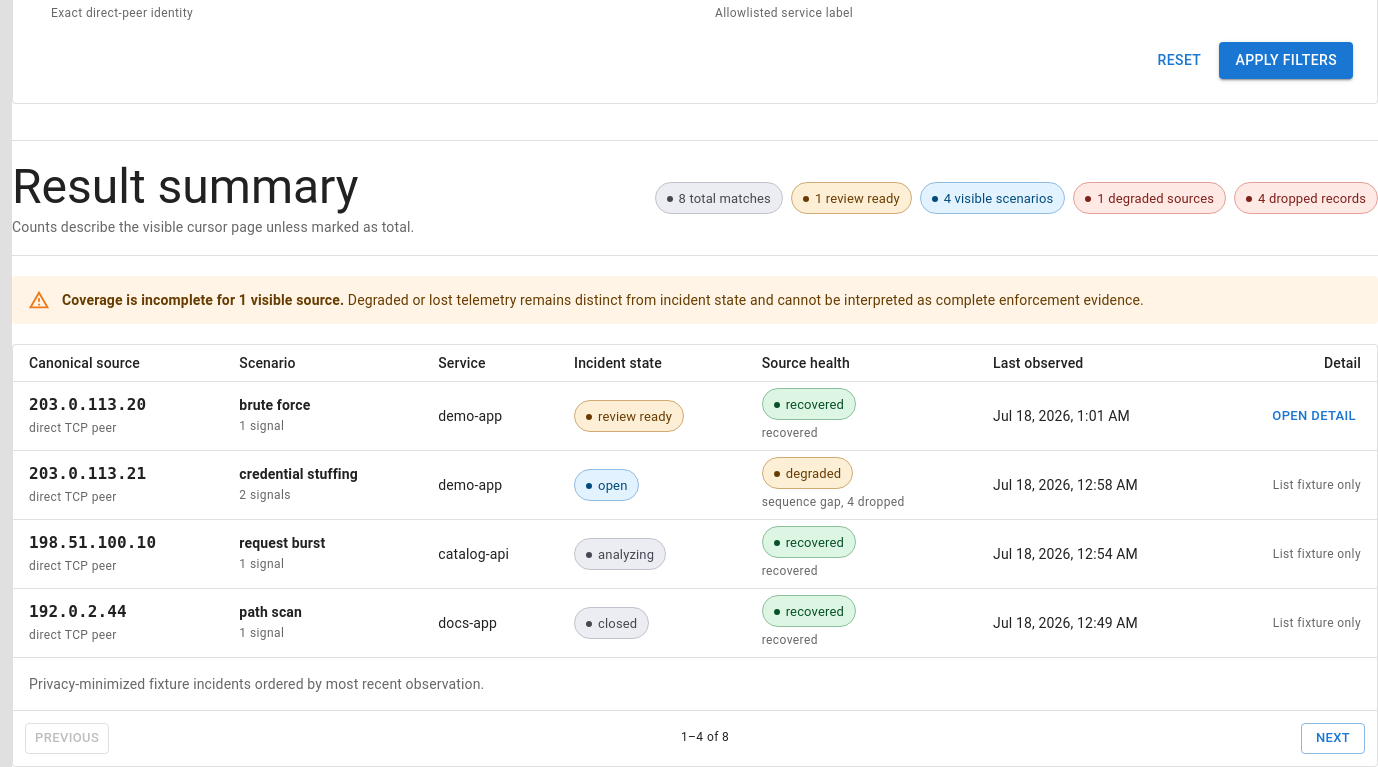
Test: IncidentListPage › moves through pages using only the adapter cursor
The image size is (1378, 767).
(page scrolled)
Expected: the text "1–4 of 8" is shown, [681, 728, 729, 748]
Click the button "Next": click(1333, 738) [1301, 723, 1365, 754]
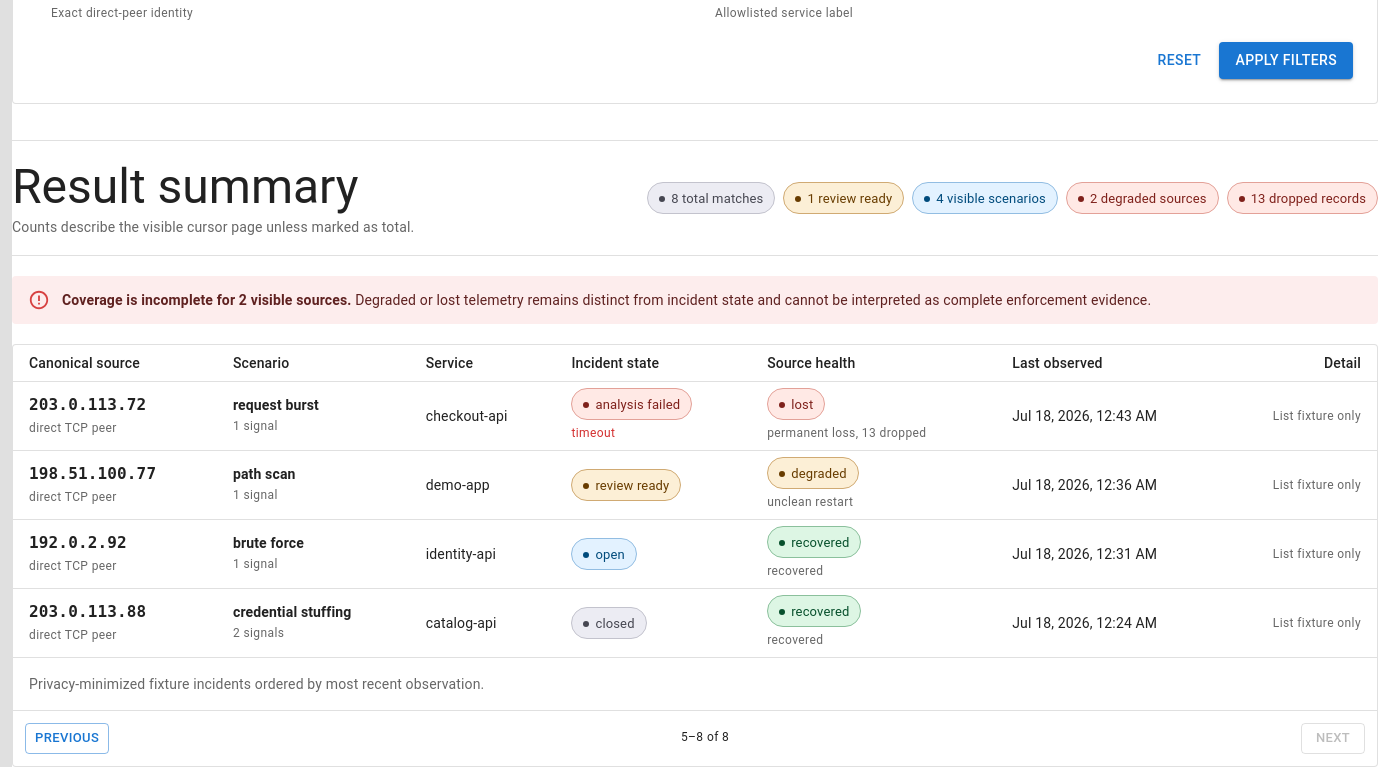
Now the text "5–8 of 8" is shown, box [681, 728, 729, 748]
Now the button "Next" is disabled, box [1301, 723, 1365, 754]
Now the button "Previous" is enabled, box [25, 723, 109, 754]
